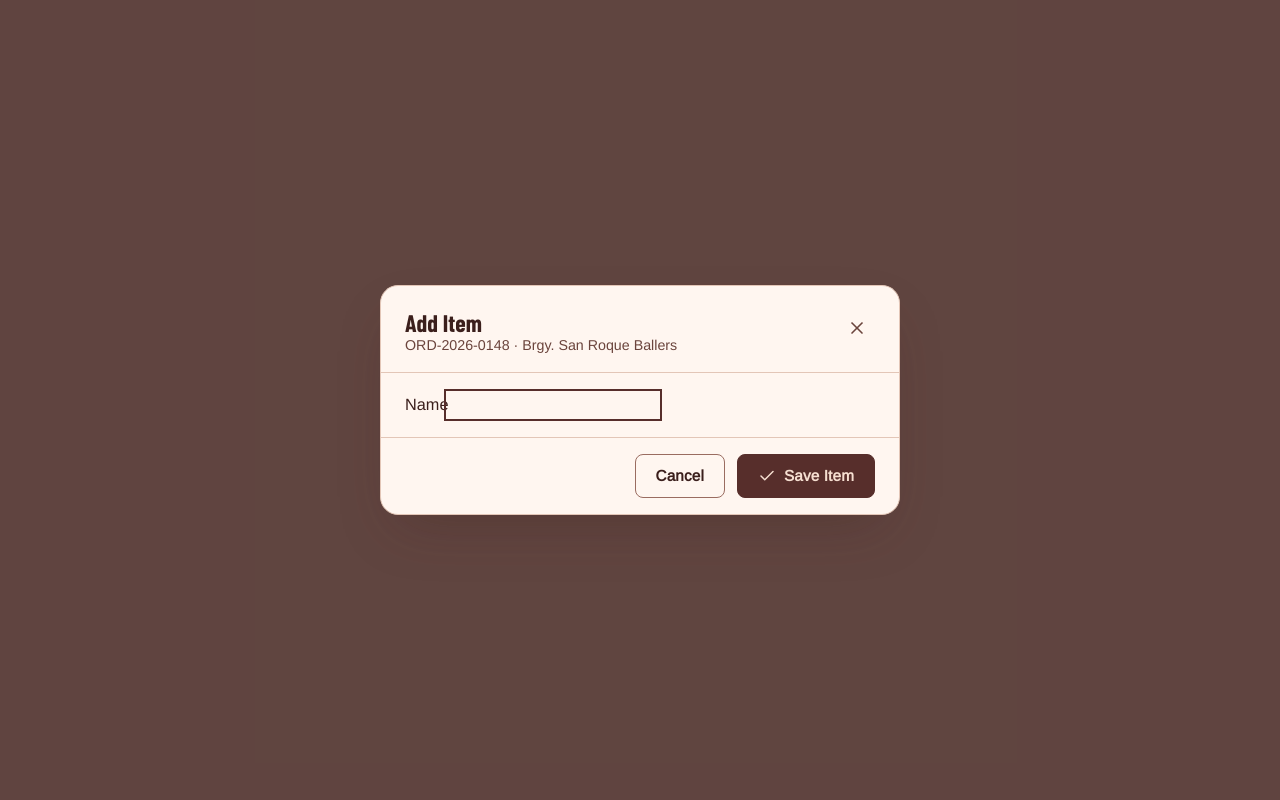
closing a dirty window (D-58, UIC-43) › asks "Discard changes?" on the close button and Keep Editing is focused first
Click the button named "Close" at (857, 328), box [839,310,875,346]
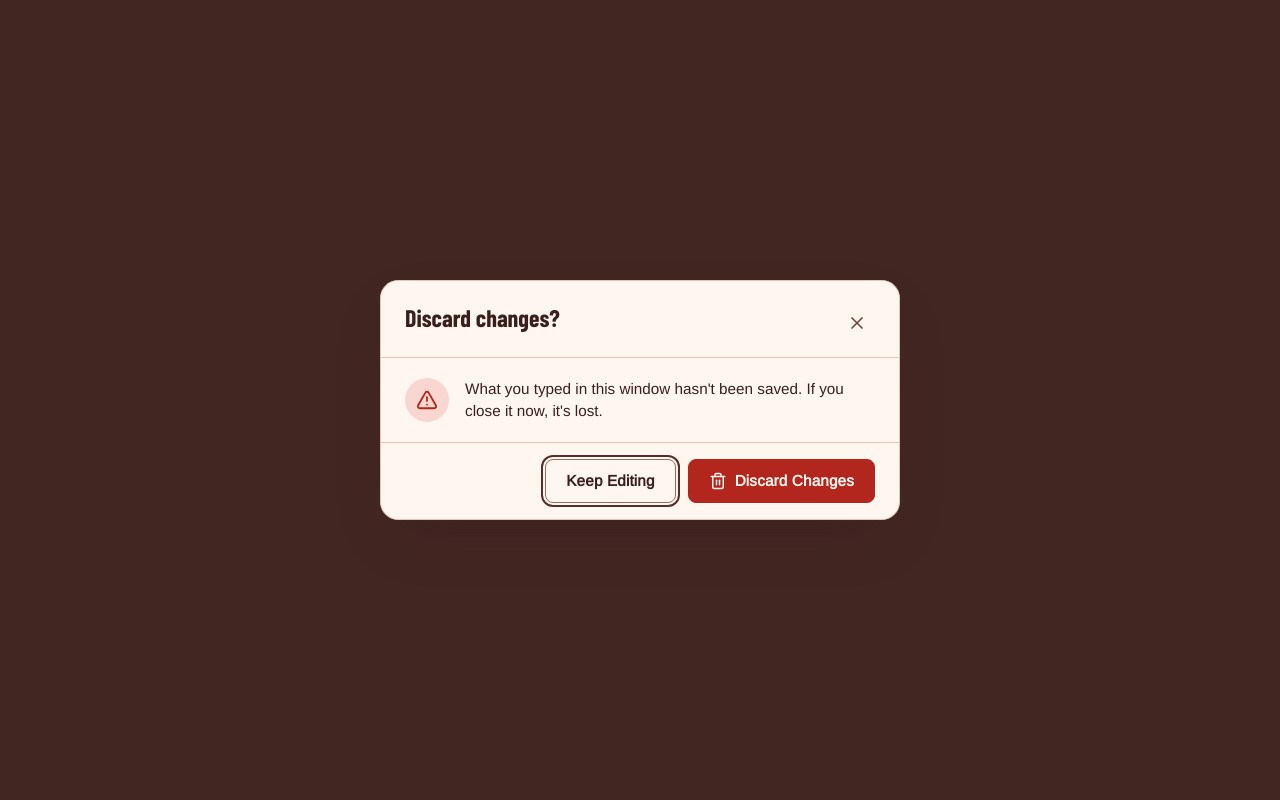
expect the text "What you typed in this window hasn't been saved. If you close it now, it's lost." is shown: met, box [465,378,875,422]
